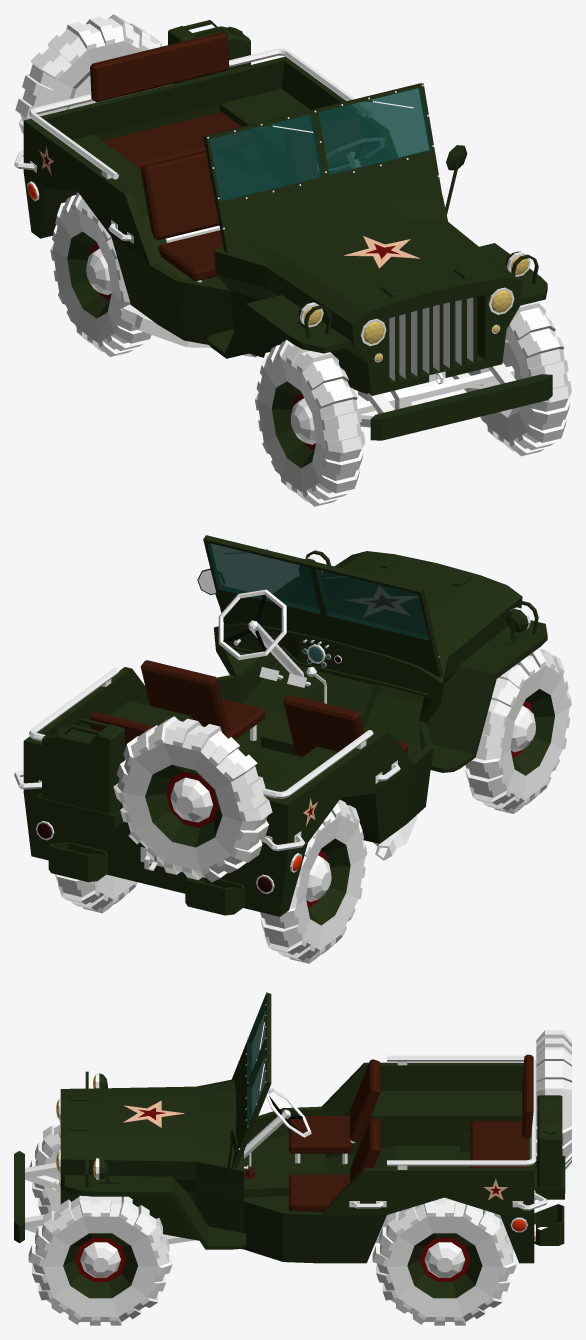
The model's file is MilitaryJeep_01.FBX.
3 views of the same model, one above another, from view 1: azimuth 30°, elevation 25°; view 2: azimuth 150°, elevation 25°; view 3: azimuth 270°, elevation 25° (orthographic). The views are drawn at different scales.
Visible parts, largest first — view 1: MilitaryJeep_01, wheel_f_r, rearSeat, wheel_b_r, frontSeat_r, wheel_f_l, spareWheel, bumper_f, frontSeat_l, suspension, jerryCan, headLights (+2 smaller); view 2: MilitaryJeep_01, spareWheel, wheel_f_r, wheel_b_r, jerryCan, frontSeat_l, frontSeat_r, steeringWheel, wheel_b_l, lights, rearSeat, exhaust; view 3: MilitaryJeep_01, wheel_f_l, wheel_b_l, frontSeat_r, rearSeat, spareWheel, frontSeat_l, jerryCan, bumper_f, wheel_f_r, steeringWheel, lights.
Part boxes in pixels (left/top/right/bottom): MilitaryJeep_01: left=14, top=48, right=547, bottom=395; wheel_f_r: left=255, top=339, right=365, bottom=506; rearSeat: left=90, top=32, right=254, bottom=168; wheel_b_r: left=50, top=192, right=151, bottom=356; frontSeat_r: left=140, top=151, right=224, bottom=282; wheel_f_l: left=468, top=301, right=571, bottom=456; spareWheel: left=15, top=14, right=170, bottom=133; bumper_f: left=360, top=362, right=552, bottom=440; frontSeat_l: left=284, top=116, right=367, bottom=182; suspension: left=357, top=366, right=514, bottom=413; jerryCan: left=168, top=20, right=250, bottom=83; headLights: left=303, top=255, right=528, bottom=361; MilitaryJeep_01: left=14, top=535, right=547, bottom=916; spareWheel: left=113, top=716, right=272, bottom=882; wheel_f_r: left=465, top=648, right=571, bottom=813; wheel_b_r: left=259, top=799, right=367, bottom=963; jerryCan: left=42, top=718, right=124, bottom=815; frontSeat_l: left=140, top=660, right=265, bottom=740; frontSeat_r: left=283, top=695, right=407, bottom=758; steeringWheel: left=218, top=589, right=303, bottom=676; wheel_b_l: left=55, top=874, right=137, bottom=913; lights: left=36, top=556, right=530, bottom=893; rearSeat: left=90, top=712, right=153, bottom=748; exhaust: left=373, top=816, right=416, bottom=860; MilitaryJeep_01: left=51, top=992, right=565, bottom=1263; wheel_f_l: left=28, top=1195, right=172, bottom=1325; wheel_b_l: left=372, top=1197, right=516, bottom=1325; frontSeat_r: left=289, top=1059, right=380, bottom=1164; rearSeat: left=470, top=1054, right=533, bottom=1167; spareWheel: left=536, top=1030, right=571, bottom=1170; frontSeat_l: left=289, top=1118, right=380, bottom=1211; jerryCan: left=537, top=1095, right=562, bottom=1187; bumper_f: left=14, top=1151, right=195, bottom=1244; wheel_f_r: left=29, top=1121, right=60, bottom=1214; steeringWheel: left=244, top=1088, right=311, bottom=1158; lights: left=59, top=1073, right=535, bottom=1241.
Size of the model in its own units: 19.73 by 18.76 by 39.17.
